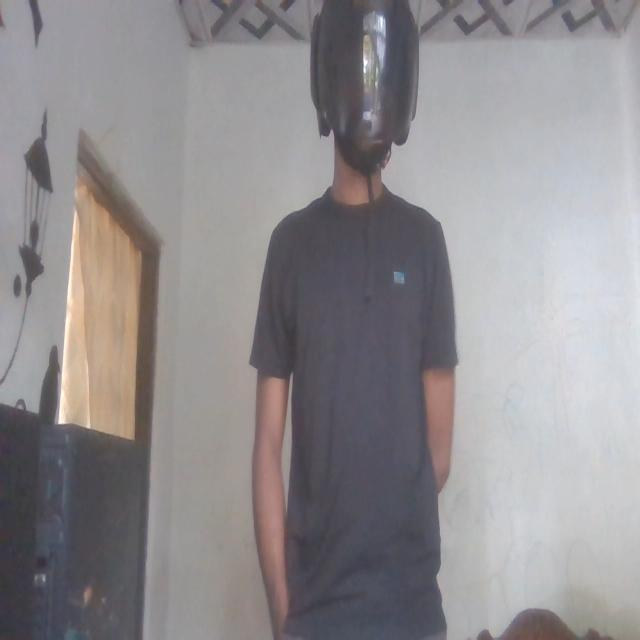Helmet_Wearer: (304, 0, 429, 181)
Person: (249, 0, 467, 640)
